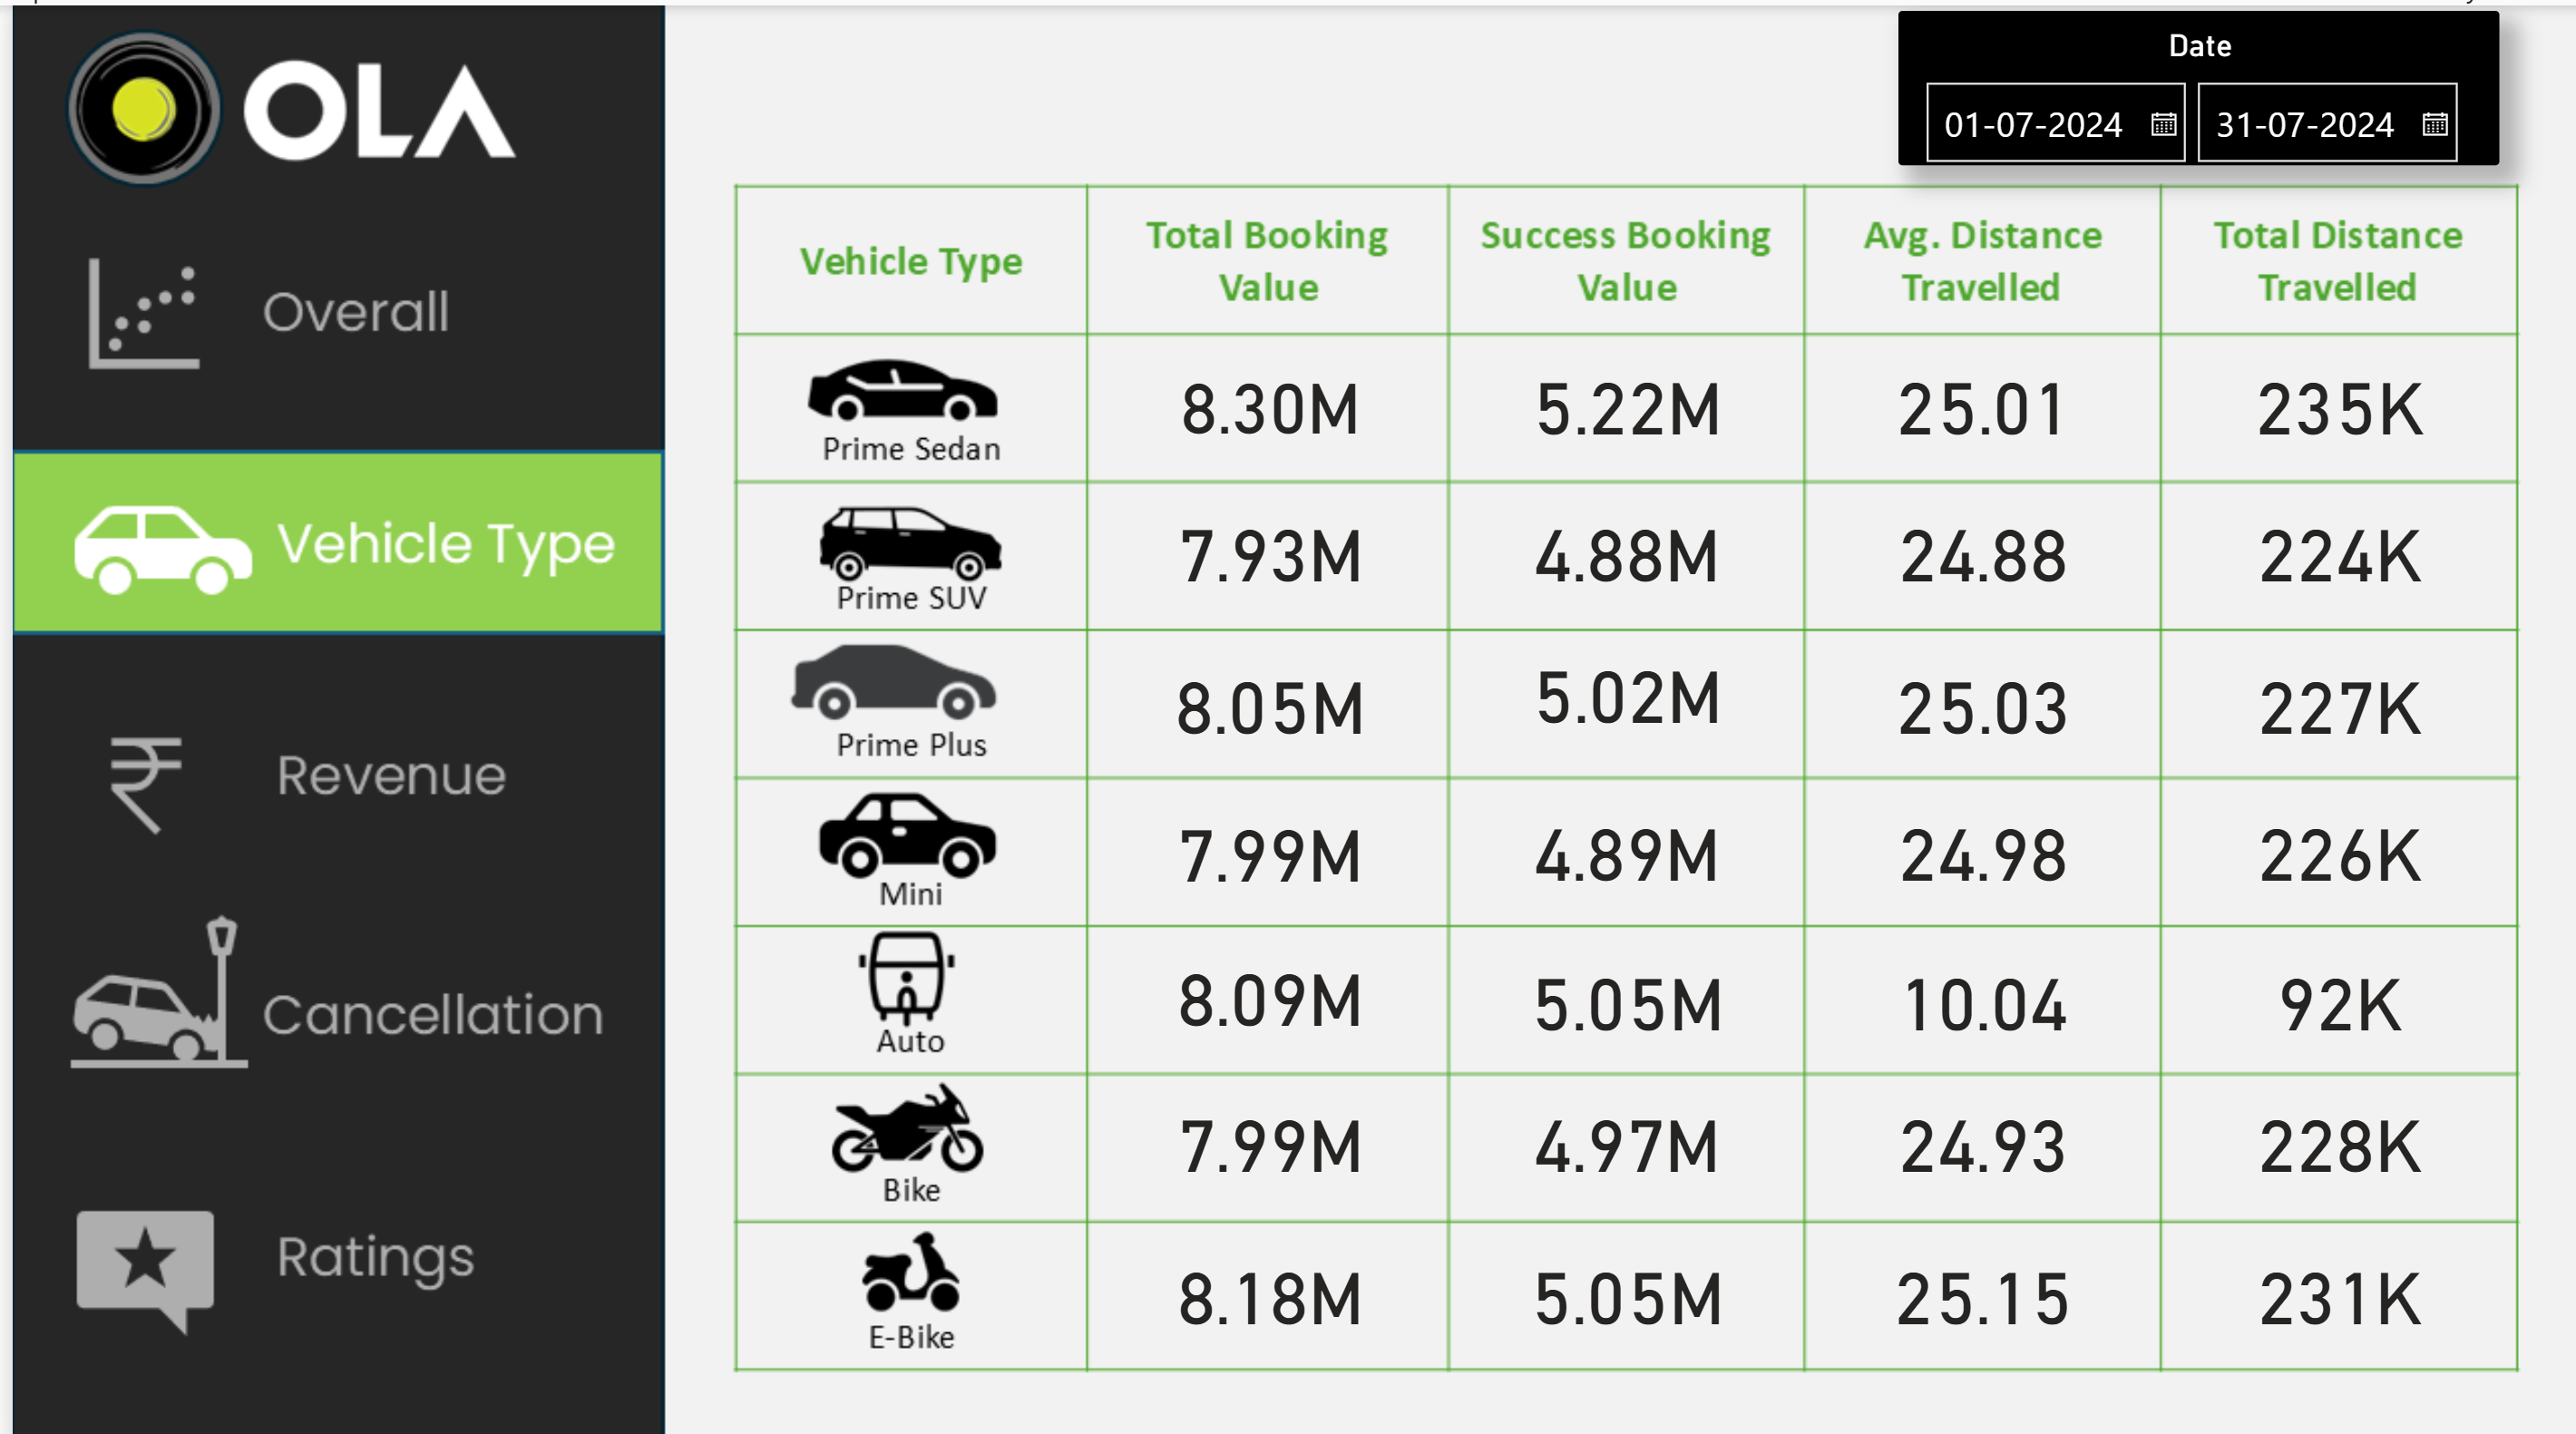

The page's visual inventory and layout, read from the dashboard file:
{"tool":"powerbi","page":{"name":"Vehicle Type","canvas":[1280,720],"ordinal":1},"visuals":[{"type":"actionButton","box":[0,447.5,326.2,91.2],"z":0},{"type":"actionButton","box":[0,573.8,326.2,91.2],"z":1000},{"type":"actionButton","box":[0,113.8,326.2,91.2],"z":2000},{"type":"actionButton","box":[0,571.2,326.2,91.2],"z":3000},{"type":"actionButton","box":[0,333.8,326.2,91.2],"z":4000},{"type":"actionButton","box":[0,106.2,326.2,91.2],"z":5000},{"type":"actionButton","box":[0,113.8,326.2,91.2],"z":6000},{"type":"card","fields":{"Values":["Sum(July.Booking_Value)"]},"box":[544.3,172.9,160,48.6],"z":7000},{"type":"card","fields":{"Values":["Sum(July.Booking_Value)"]},"box":[544.3,245.7,160,48.6],"z":8000},{"type":"card","fields":{"Values":["Sum(July.Booking_Value)"]},"box":[544.3,315.7,160,58.6],"z":9000},{"type":"card","fields":{"Values":["Sum(July.Booking_Value)"]},"box":[551.4,390,145.7,57.1],"z":10000},{"type":"card","fields":{"Values":["Sum(July.Booking_Value)"]},"box":[544.3,538.6,160,48.6],"z":11000},{"type":"card","fields":{"Values":["Sum(July.Booking_Value)"]},"box":[544.3,462.9,160,54.3],"z":12000},{"type":"card","fields":{"Values":["Sum(July.Booking_Value)"]},"box":[544.3,614.3,160,48.6],"z":13000},{"type":"card","fields":{"Values":["Sum(July.Booking_Value)"]},"box":[721.4,172.9,160,48.6],"z":14000},{"type":"card","fields":{"Values":["Sum(July.Booking_Value)"]},"box":[721.4,245.7,160,48.6],"z":15000},{"type":"card","fields":{"Values":["Sum(July.Booking_Value)"]},"box":[721.4,315.7,160,48.6],"z":16000},{"type":"card","fields":{"Values":["Sum(July.Booking_Value)"]},"box":[721.4,394.3,160,48.6],"z":17000},{"type":"card","fields":{"Values":["Sum(July.Booking_Value)"]},"box":[721.4,468.6,160,48.6],"z":18000},{"type":"card","fields":{"Values":["Sum(July.Booking_Value)"]},"box":[721.4,614.3,160,48.6],"z":19000},{"type":"card","fields":{"Values":["Sum(July.Booking_Value)"]},"box":[721.4,538.6,160,48.6],"z":20000},{"type":"card","fields":{"Values":["Avg(July.Ride_Distance)"]},"box":[898.6,172.9,160,48.6],"z":21000},{"type":"card","fields":{"Values":["Avg(July.Ride_Distance)"]},"box":[898.6,245.7,160,48.6],"z":22000},{"type":"card","fields":{"Values":["Avg(July.Ride_Distance)"]},"box":[898.6,321.4,160,48.6],"z":23000},{"type":"card","fields":{"Values":["Avg(July.Ride_Distance)"]},"box":[898.6,394.3,160,48.6],"z":24000},{"type":"card","fields":{"Values":["Avg(July.Ride_Distance)"]},"box":[898.6,468.6,160,48.6],"z":25000},{"type":"card","fields":{"Values":["Avg(July.Ride_Distance)"]},"box":[898.6,538.6,160,48.6],"z":26000},{"type":"card","fields":{"Values":["Avg(July.Ride_Distance)"]},"box":[898.6,614.3,160,48.6],"z":27000},{"type":"card","fields":{"Values":["Sum(July.Ride_Distance)"]},"box":[1075.7,172.9,160,48.6],"z":28000},{"type":"card","fields":{"Values":["Sum(July.Ride_Distance)"]},"box":[1075.7,245.7,160,48.6],"z":29000},{"type":"card","fields":{"Values":["Sum(July.Ride_Distance)"]},"box":[1075.7,321.4,160,48.6],"z":30000},{"type":"card","fields":{"Values":["Sum(July.Ride_Distance)"]},"box":[1075.7,394.3,160,48.6],"z":31000},{"type":"card","fields":{"Values":["Sum(July.Ride_Distance)"]},"box":[1075.7,468.6,160,48.6],"z":32000},{"type":"card","fields":{"Values":["Sum(July.Ride_Distance)"]},"box":[1075.7,538.6,160,48.6],"z":33000},{"type":"card","fields":{"Values":["Sum(July.Ride_Distance)"]},"box":[1075.7,614.3,160,48.6],"z":34000},{"type":"slicer","title":"Date","fields":{"Values":["July.Date"]},"box":[936.7,3.3,298.3,76.7],"z":35000}]}

Visuals, with their boxes on the page's 1280x720 design canvas (x1, y1, x2, y2). These are canvas units, not pixel positions in the 2576x1434 screenshot, which may show the page scaled, cropped or inside an application window:
actionButton: bbox(0, 448, 326, 539)
actionButton: bbox(0, 574, 326, 665)
actionButton: bbox(0, 114, 326, 205)
actionButton: bbox(0, 571, 326, 662)
actionButton: bbox(0, 334, 326, 425)
actionButton: bbox(0, 106, 326, 197)
actionButton: bbox(0, 114, 326, 205)
card - Sum(July.Booking_Value): bbox(544, 173, 704, 222)
card - Sum(July.Booking_Value): bbox(544, 246, 704, 294)
card - Sum(July.Booking_Value): bbox(544, 316, 704, 374)
card - Sum(July.Booking_Value): bbox(551, 390, 697, 447)
card - Sum(July.Booking_Value): bbox(544, 539, 704, 587)
card - Sum(July.Booking_Value): bbox(544, 463, 704, 517)
card - Sum(July.Booking_Value): bbox(544, 614, 704, 663)
card - Sum(July.Booking_Value): bbox(721, 173, 881, 222)
card - Sum(July.Booking_Value): bbox(721, 246, 881, 294)
card - Sum(July.Booking_Value): bbox(721, 316, 881, 364)
card - Sum(July.Booking_Value): bbox(721, 394, 881, 443)
card - Sum(July.Booking_Value): bbox(721, 469, 881, 517)
card - Sum(July.Booking_Value): bbox(721, 614, 881, 663)
card - Sum(July.Booking_Value): bbox(721, 539, 881, 587)
card - Avg(July.Ride_Distance): bbox(899, 173, 1059, 222)
card - Avg(July.Ride_Distance): bbox(899, 246, 1059, 294)
card - Avg(July.Ride_Distance): bbox(899, 321, 1059, 370)
card - Avg(July.Ride_Distance): bbox(899, 394, 1059, 443)
card - Avg(July.Ride_Distance): bbox(899, 469, 1059, 517)
card - Avg(July.Ride_Distance): bbox(899, 539, 1059, 587)
card - Avg(July.Ride_Distance): bbox(899, 614, 1059, 663)
card - Sum(July.Ride_Distance): bbox(1076, 173, 1236, 222)
card - Sum(July.Ride_Distance): bbox(1076, 246, 1236, 294)
card - Sum(July.Ride_Distance): bbox(1076, 321, 1236, 370)
card - Sum(July.Ride_Distance): bbox(1076, 394, 1236, 443)
card - Sum(July.Ride_Distance): bbox(1076, 469, 1236, 517)
card - Sum(July.Ride_Distance): bbox(1076, 539, 1236, 587)
card - Sum(July.Ride_Distance): bbox(1076, 614, 1236, 663)
"Date" slicer: bbox(937, 3, 1235, 80)
